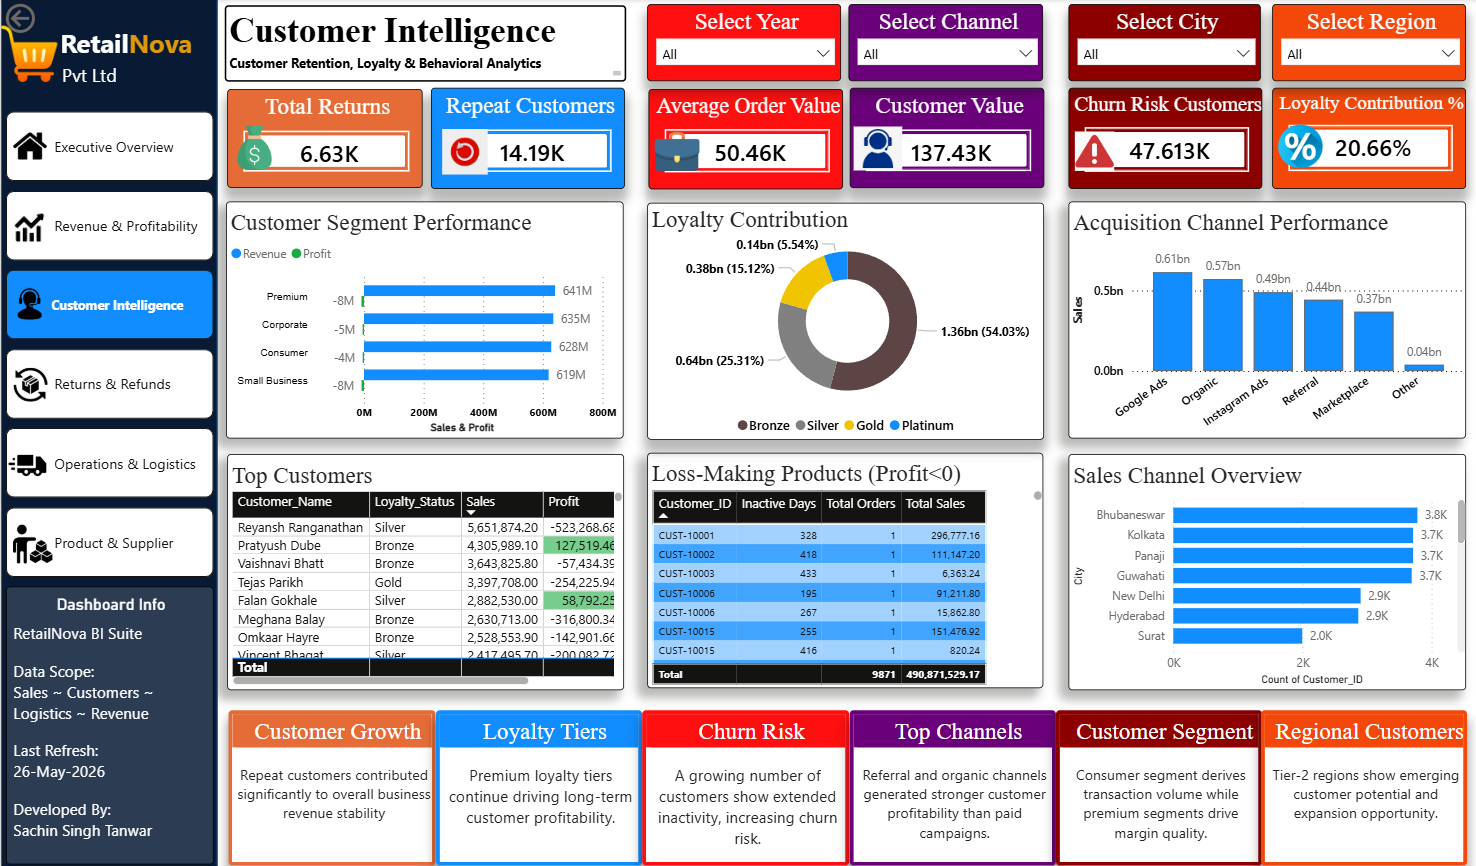

Layout of this report page (visuals, bound fields, positions):
{"tool":"powerbi","page":{"name":"Customer Intelligence","canvas":[1530,900],"ordinal":2},"visuals":[{"type":"textbox","title":"Customer Growth","box":[236.2,736.7,214.8,160.5],"z":0},{"type":"cardVisual","title":"Repeat Customers","fields":{"Data":["master_analytics_dataset.Repeat Customers"]},"box":[445.2,92.1,200.6,104.4],"z":1000},{"type":"textbox","title":"Loyalty Tiers","box":[451,736.7,213.4,160.5],"z":2000},{"type":"pageNavigator","box":[5.6,116.5,215.4,482.3],"z":2500,"group":"g1"},{"type":"cardVisual","title":"Customer Value","fields":{"Data":["master_analytics_dataset.CLV"]},"box":[879.7,91.7,201.5,104.2],"z":3000},{"type":"textbox","title":"Churn Risk","box":[664.4,736.7,214.8,160.5],"z":4000},{"type":"image","box":[11.9,134.5,36.6,35.4],"z":4500,"group":"g1"},{"type":"textbox","title":"Top Channels","box":[879.2,736.7,213.4,160.5],"z":5000},{"type":"cardVisual","title":"Average Order Value","fields":{"Data":["master_analytics_dataset.Average Order Value"]},"box":[670.9,93.1,201.5,104.2],"z":6000},{"type":"image","box":[0,22,58.1,70],"z":6250,"group":"g1"},{"type":"shape","box":[0,0,224.5,900.5],"z":6500,"group":"g2"},{"type":"textbox","title":"Customer Segment","box":[1092.6,736.7,213.4,160.7],"z":7000},{"type":"cardVisual","title":"Churn Risk Customers","fields":{"Data":["CountNonNull(master_analytics_dataset.Inactive Days)"]},"box":[1106,92.1,200.6,104.4],"z":8000},{"type":"textbox","title":"Retail","box":[58.1,22,166.4,60.9],"z":8500,"group":"g1"},{"type":"textbox","title":"Regional Customers","box":[1306.1,736.7,213.4,160.5],"z":9000},{"type":"cardVisual","title":"Loyalty Contribution %","fields":{"Data":["master_analytics_dataset.Loyalty Contribution"]},"box":[1317.6,92.1,200.6,104.4],"z":10000},{"type":"textbox","box":[58.4,60.9,93.8,42.8],"z":10500,"group":"g1"},{"type":"cardVisual","title":"Total Returns","fields":{"Data":["master_analytics_dataset.Total Returns"]},"box":[234.8,93.1,202.5,102.6],"z":11000},{"type":"clusteredBarChart","title":"Customer Segment Performance","fields":{"Y":["Sum(master_analytics_dataset.Sales)","Sum(master_analytics_dataset.Profit)"],"Category":["master_analytics_dataset.Segment"]},"box":[233.6,210.2,412.2,245.9],"z":12000},{"type":"image","box":[13.9,221.2,30,30],"z":12500,"group":"g1"},{"type":"image","box":[11.9,298.2,36,36.3],"z":13000,"group":"g1"},{"type":"tableEx","title":"Top Customers","fields":{"Values":["master_analytics_dataset.Customer_Name","master_analytics_dataset.Loyalty_Status","master_analytics_dataset.Sales","master_analytics_dataset.Profit","master_analytics_dataset.Total Customers"]},"box":[234.9,471.3,410.8,244.6],"z":13000},{"type":"columnChart","title":"Acquisition Channel Performance","fields":{"Category":["master_analytics_dataset.Acquisition_Channel"],"Y":["Sum(master_analytics_dataset.Sales)"]},"box":[1106,210.2,412.2,245.9],"z":14000},{"type":"image","box":[12.9,382.2,35.8,35.2],"z":15000,"group":"g1"},{"type":"tableEx","title":"Loss-Making Products (Profit<0)","fields":{"Values":["master_analytics_dataset.Customer_ID","master_analytics_dataset.Inactive Days","master_analytics_dataset.Total Orders","master_analytics_dataset.Total Sales"]},"box":[669.1,470.8,410.6,244.4],"z":15000},{"type":"image","box":[233.2,130.8,59.6,46.6],"z":16000},{"type":"image","box":[450.8,135,59.4,47.2],"z":17000},{"type":"image","box":[8.3,464,38.9,38.9],"z":17000,"group":"g1"},{"type":"clusteredBarChart","title":"Sales Channel Overview","fields":{"Category":["master_analytics_dataset.City_x"],"Y":["Count(master_analytics_dataset.Customer_ID)"]},"box":[1106,471.3,412.2,244.6],"z":18000},{"type":"image","box":[880,132.3,58,45.9],"z":19000},{"type":"image","box":[11.9,544.4,42.3,41.5],"z":19000,"group":"g1"},{"type":"image","box":[671,134.7,59.6,46.6],"z":20000},{"type":"textbox","title":"Dashboard Info","box":[5.6,608.5,215.4,287.7],"z":20000,"group":"g1"},{"type":"donutChart","title":"Loyalty Contribution","fields":{"Y":["Sum(master_analytics_dataset.Sales)"],"Category":["master_analytics_dataset.Loyalty_Status"]},"box":[670,210.7,411.5,245.6],"z":21000},{"type":"group","id":"g1","title":"Group 1","box":[0,22,224.5,874.2],"z":21001,"group":"g2"},{"type":"image","box":[1109.4,137.7,48.6,40.5],"z":22000},{"type":"slicer","title":"Select Channel","fields":{"Values":["master_analytics_dataset.Acquisition_Channel"]},"box":[877.9,5.5,202,79.7],"z":23000},{"type":"slicer","title":"Select City","fields":{"Values":["master_analytics_dataset.City_x"]},"box":[1106,5.5,199.2,79.7],"z":24000},{"type":"slicer","title":"Select Region","fields":{"Values":["master_analytics_dataset.Region"]},"box":[1317.6,5.5,200.6,79.7],"z":25000},{"type":"group","id":"g2","title":"Group 2","box":[0,0,224.5,900.5],"z":26000},{"type":"slicer","title":"Select Year","fields":{"Values":["master_analytics_dataset.Order_Date.Variation.Date Hierarchy.Year"]},"box":[670.2,5.5,200.6,79.7],"z":27000},{"type":"textbox","title":"Customer Intelligence","box":[231.9,6.5,415.8,79],"z":28000},{"type":"image","box":[1317.4,129.5,58.3,46.6],"z":29000},{"type":"actionButton","box":[0,0,99.7,40.2],"z":30000}]}

Visuals, with their boxes on the page's 1530x900 design canvas (x1, y1, x2, y2). These are canvas units, not pixel positions in the 1476x866 screenshot, which may show the page scaled, cropped or inside an application window:
"Customer Growth" textbox: <box>236,737,451,897</box>
"Repeat Customers" cardVisual: <box>445,92,646,196</box>
"Loyalty Tiers" textbox: <box>451,737,664,897</box>
pageNavigator: <box>6,116,221,599</box>
"Customer Value" cardVisual: <box>880,92,1081,196</box>
"Churn Risk" textbox: <box>664,737,879,897</box>
image: <box>12,134,48,170</box>
"Top Channels" textbox: <box>879,737,1093,897</box>
"Average Order Value" cardVisual: <box>671,93,872,197</box>
image: <box>0,22,58,92</box>
shape: <box>0,0,224,900</box>
"Customer Segment" textbox: <box>1093,737,1306,897</box>
"Churn Risk Customers" cardVisual: <box>1106,92,1307,196</box>
"Retail" textbox: <box>58,22,224,83</box>
"Regional Customers" textbox: <box>1306,737,1520,897</box>
"Loyalty Contribution %" cardVisual: <box>1318,92,1518,196</box>
textbox: <box>58,61,152,104</box>
"Total Returns" cardVisual: <box>235,93,437,196</box>
"Customer Segment Performance" clusteredBarChart: <box>234,210,646,456</box>
image: <box>14,221,44,251</box>
image: <box>12,298,48,334</box>
"Top Customers" tableEx: <box>235,471,646,716</box>
"Acquisition Channel Performance" columnChart: <box>1106,210,1518,456</box>
image: <box>13,382,49,417</box>
"Loss-Making Products (Profit<0)" tableEx: <box>669,471,1080,715</box>
image: <box>233,131,293,177</box>
image: <box>451,135,510,182</box>
image: <box>8,464,47,503</box>
"Sales Channel Overview" clusteredBarChart: <box>1106,471,1518,716</box>
image: <box>880,132,938,178</box>
image: <box>12,544,54,586</box>
image: <box>671,135,731,181</box>
"Dashboard Info" textbox: <box>6,608,221,896</box>
"Loyalty Contribution" donutChart: <box>670,211,1082,456</box>
"Group 1" group: <box>0,22,224,896</box>
image: <box>1109,138,1158,178</box>
"Select Channel" slicer: <box>878,6,1080,85</box>
"Select City" slicer: <box>1106,6,1305,85</box>
"Select Region" slicer: <box>1318,6,1518,85</box>
"Group 2" group: <box>0,0,224,900</box>
"Select Year" slicer: <box>670,6,871,85</box>
"Customer Intelligence" textbox: <box>232,6,648,86</box>
image: <box>1317,130,1376,176</box>
actionButton: <box>0,0,100,40</box>
